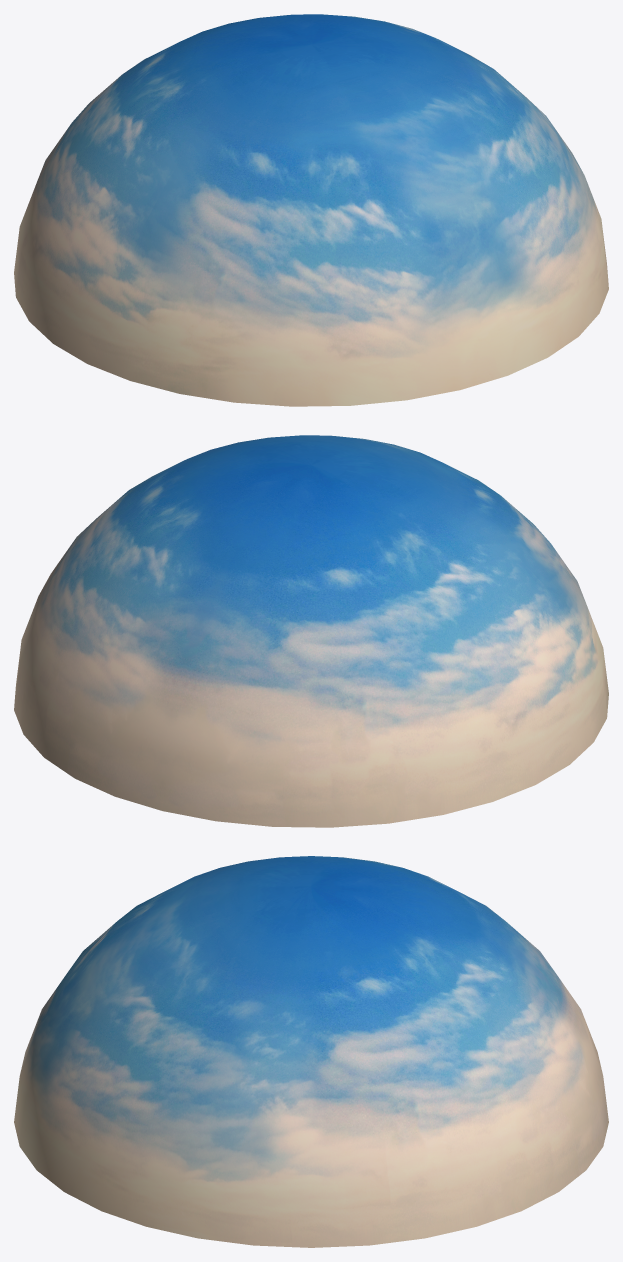
File: Skydome.obj
3 views of the same model, one above another, from view 1: azimuth 30°, elevation 25°; view 2: azimuth 150°, elevation 25°; view 3: azimuth 270°, elevation 25° (orthographic).
Visible parts, largest first — view 1: Skydome:skydome; view 2: Skydome:skydome; view 3: Skydome:skydome.
Part boxes in pixels (bbox=[...]): Skydome:skydome: bbox=[14, 14, 608, 406]; Skydome:skydome: bbox=[14, 435, 608, 827]; Skydome:skydome: bbox=[14, 856, 608, 1247].
Bounding box in the file's own units: 16.14 × 7.06 × 16.14.
